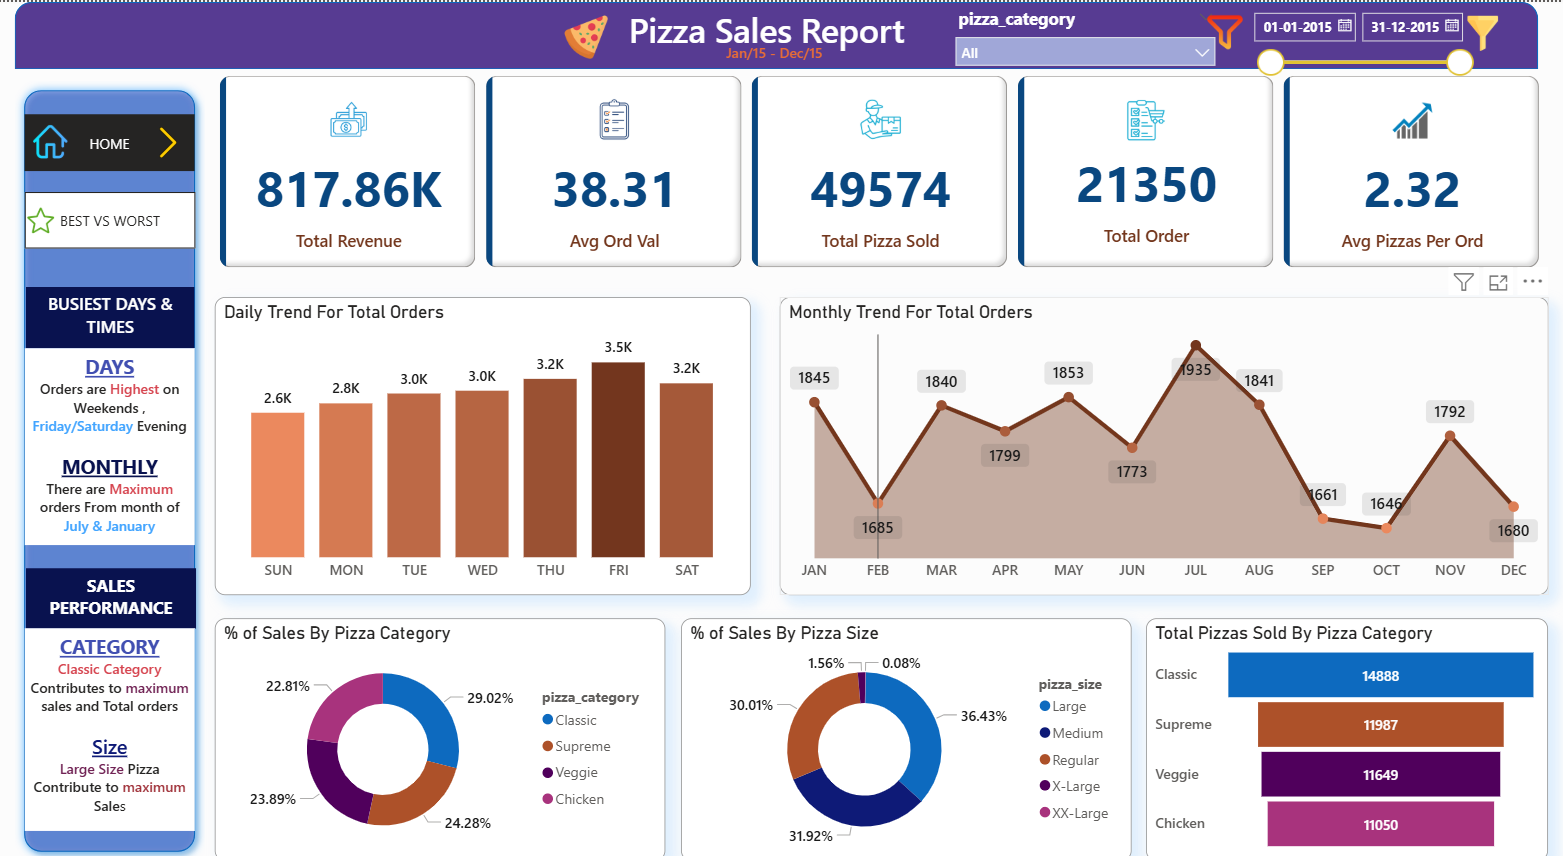

What the dashboard file says about the page in this screenshot:
{"tool":"powerbi","page":{"name":"HOME","canvas":[1500,820],"ordinal":0},"visuals":[{"type":"shape","box":[18,0,1455.1,64.4],"z":0},{"type":"textbox","box":[599.6,0,297.1,60],"z":1000},{"type":"image","box":[527.3,6.8,72.2,53.1],"z":2000},{"type":"textbox","box":[692.2,34.1,114.5,30],"z":3000},{"type":"shape","box":[17.7,74.9,181.2,745.4],"z":4000},{"type":"cardVisual","fields":{"Data":["pizza_sales.Total Revenue","pizza_sales.Avg Ord Val","pizza_sales.Total Pizza Sold","pizza_sales.Total Order","pizza_sales.Avg Pizzas Per Ord"]},"box":[208.5,65.4,1274.1,193.5],"z":5000},{"type":"columnChart","title":"Daily Trend For Total Orders","fields":{"Y":["pizza_sales.Total Order"],"Category":["pizza_sales.Day_Name"]},"box":[208.5,282.1,512.4,284.8],"z":6000},{"type":"lineChart","title":"Monthly Trend For Total Orders","fields":{"Y":["pizza_sales.Total Order"],"Category":["pizza_sales.Order_Month"]},"box":[748.1,282.1,734.5,284.8],"z":7000},{"type":"donutChart","title":"% of Sales By Pizza Category","fields":{"Y":["pizza_sales.Total Order"],"Category":["pizza_sales.pizza_category"]},"box":[208.5,588.7,430.6,231.7],"z":8000},{"type":"donutChart","title":"% of Sales By Pizza Size","fields":{"Y":["pizza_sales.Total Order"],"Category":["pizza_sales.pizza_size"]},"box":[654.1,588.7,430.6,231.7],"z":9000},{"type":"funnel","title":"Total Pizzas Sold By Pizza Category","fields":{"Category":["pizza_sales.pizza_category"],"Y":["pizza_sales.Total Pizza Sold"]},"box":[1098.3,588.7,384.3,231.7],"z":10000},{"type":"textbox","box":[28.6,272.5,160.8,58.6],"z":11000},{"type":"textbox","box":[27.3,331.1,162.2,188],"z":12000},{"type":"textbox","box":[28.6,541,162.2,57.2],"z":13000},{"type":"textbox","box":[27.3,598.2,162.2,193.5],"z":14000},{"type":"slicer","fields":{"Values":["pizza_sales.pizza_category"]},"box":[906.2,0,268.4,64],"z":15000},{"type":"slicer","fields":{"Values":["pizza_sales.order_date"]},"box":[1189.6,0,230.3,74.9],"z":16000},{"type":"pageNavigator","box":[27.3,107.6,162.2,54.5],"z":17000},{"type":"pageNavigator","box":[27.3,181.2,163.5,54.5],"z":18000},{"type":"image","box":[139,114.5,51.8,39.5],"z":18001},{"type":"image","box":[27.3,111.7,49.1,42.2],"z":18002},{"type":"image","box":[17.7,190.8,49.1,35.4],"z":18003},{"type":"image","box":[1129.6,0,88.6,57.2],"z":18004},{"type":"image","box":[1392.6,8.2,55.9,43.6],"z":18005}]}

Visuals, with their boxes in screenshot pixels (x1, y1, x2, y2), scaled from the page's 1500x820 canvas onto the 1563x856 screenshot:
shape: <region>19, 0, 1535, 67</region>
textbox: <region>625, 0, 934, 63</region>
image: <region>549, 7, 625, 63</region>
textbox: <region>721, 36, 841, 67</region>
shape: <region>18, 78, 207, 855</region>
cardVisual - pizza_sales.Total Revenue x pizza_sales.Avg Ord Val: <region>217, 68, 1545, 270</region>
"Daily Trend For Total Orders" columnChart: <region>217, 294, 751, 592</region>
"Monthly Trend For Total Orders" lineChart: <region>780, 294, 1545, 592</region>
"% of Sales By Pizza Category" donutChart: <region>217, 615, 666, 855</region>
"% of Sales By Pizza Size" donutChart: <region>682, 615, 1130, 855</region>
"Total Pizzas Sold By Pizza Category" funnel: <region>1144, 615, 1545, 855</region>
textbox: <region>30, 284, 197, 346</region>
textbox: <region>28, 346, 197, 542</region>
textbox: <region>30, 565, 199, 624</region>
textbox: <region>28, 624, 197, 826</region>
slicer - pizza_sales.pizza_category: <region>944, 0, 1224, 67</region>
slicer - pizza_sales.order_date: <region>1240, 0, 1480, 78</region>
pageNavigator: <region>28, 112, 197, 169</region>
pageNavigator: <region>28, 189, 199, 246</region>
image: <region>145, 120, 199, 161</region>
image: <region>28, 117, 80, 161</region>
image: <region>18, 199, 70, 236</region>
image: <region>1177, 0, 1269, 60</region>
image: <region>1451, 9, 1509, 54</region>
